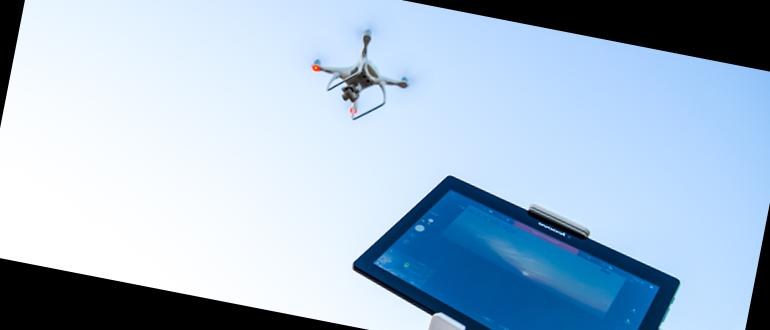drone: (292, 14, 430, 140)
